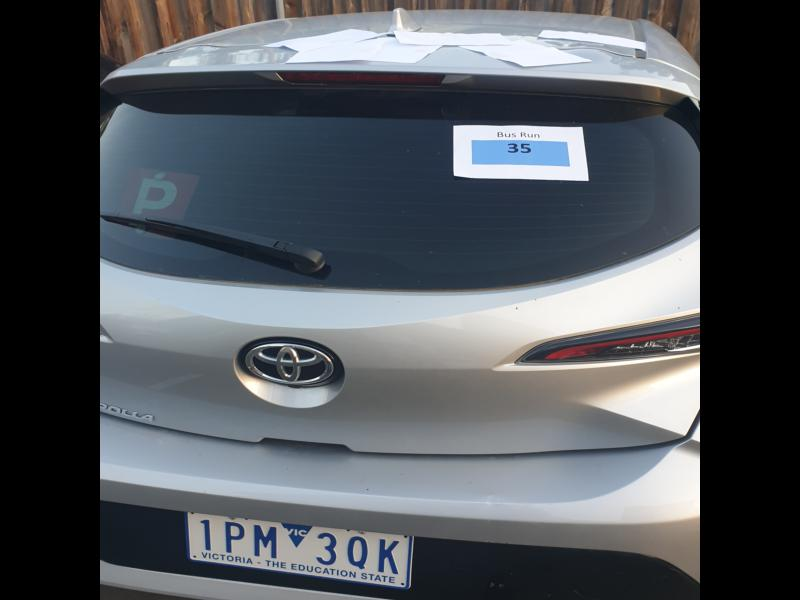BusRun: (469, 138, 570, 165)
PlateNo: (183, 511, 417, 592)
